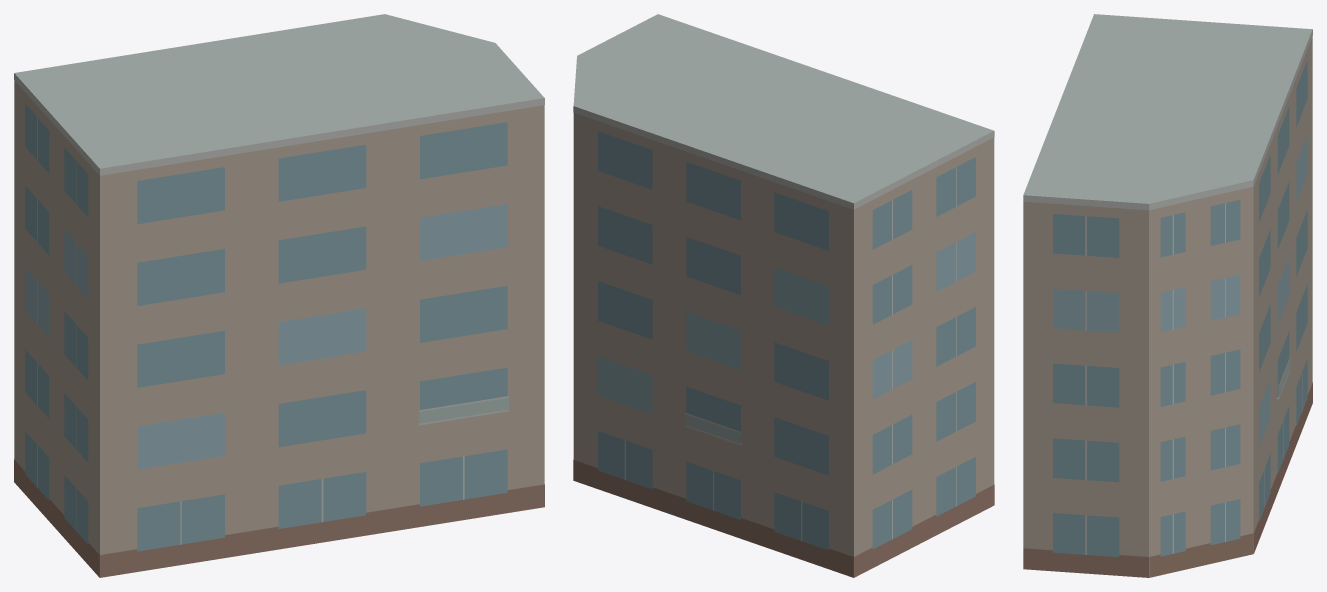
The model's file is survey-upis-33044220.glb.
3 views of the same model, side by side, from view 1: azimuth 30°, elevation 25°; view 2: azimuth 150°, elevation 25°; view 3: azimuth 270°, elevation 25° (orthographic). The views are drawn at different scales.
Parts seen in each view (by area): view 1: survey-upis-33044220.tmp; view 2: survey-upis-33044220.tmp; view 3: survey-upis-33044220.tmp.
Boxes of the visible parts, box(x1,y1,x2,y2) form: survey-upis-33044220.tmp: box(14, 14, 544, 577); survey-upis-33044220.tmp: box(573, 14, 994, 577); survey-upis-33044220.tmp: box(1023, 14, 1312, 577).
Bounding box in the file's own units: 15.48 × 14.2 × 9.97.
